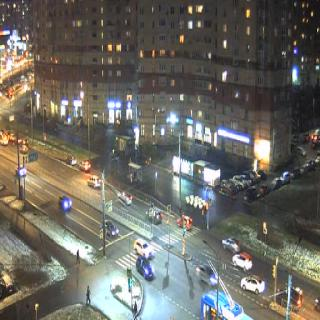large-vehicle: (202, 289, 254, 320)
small-vehicle: (239, 272, 266, 296), (197, 261, 217, 285), (136, 252, 153, 280), (134, 235, 152, 261), (231, 250, 252, 272), (100, 216, 118, 238), (221, 232, 239, 253), (146, 204, 163, 224), (118, 189, 134, 207), (176, 214, 192, 230), (85, 174, 100, 190), (57, 193, 71, 209), (79, 158, 93, 173), (14, 164, 26, 178), (66, 153, 76, 165), (18, 142, 27, 154)
